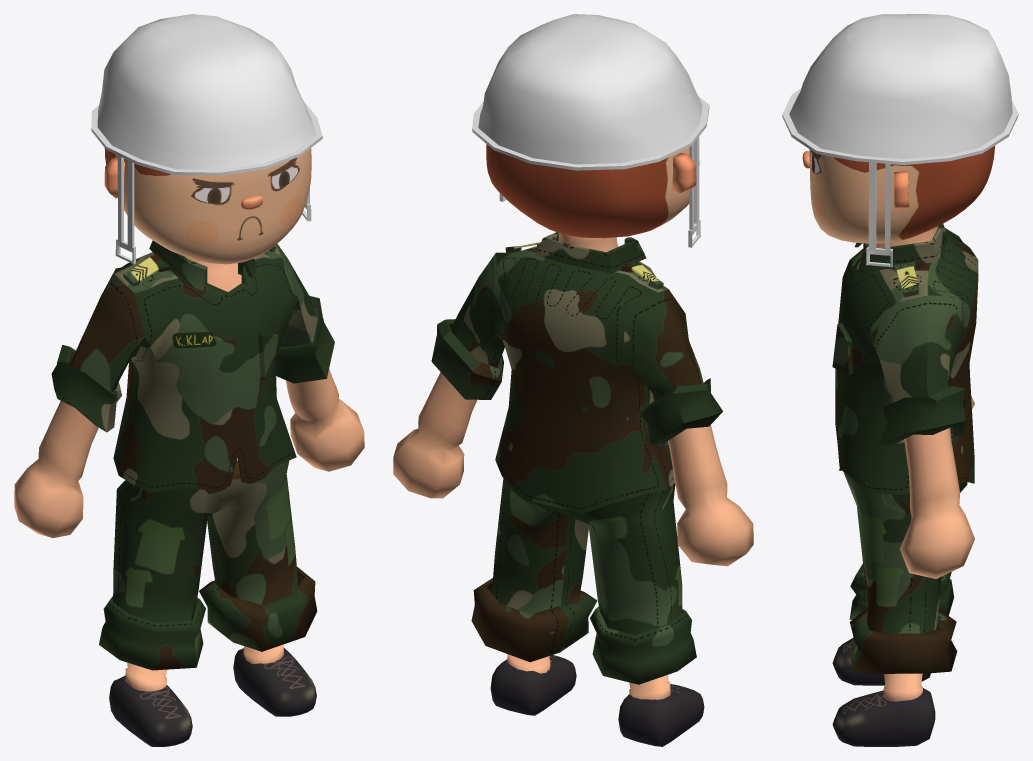
Rendered from Steel_plague_man.fbx.
3 renders of one model, left to right at view 1: azimuth 30°, elevation 25°; view 2: azimuth 150°, elevation 25°; view 3: azimuth 270°, elevation 25°, orthographic. The views are drawn at different scales.
Parts seen in each view (by area): view 1: Cube.011, Cube.008, Cylinder.001, Cube.007, Cube.009, Cube.012, Cylinder.002; view 2: Cube.011, Cube.008, Cylinder.001, Cube.007, Cube.009, Cube.012, Cylinder.002, Cube.014; view 3: Cube.011, Cylinder.001, Cube.008, Cube.009, Cube.007, Cube.012, Cylinder.002, Cube.014.
Boxes of the visible parts, left/top/right/bottom form: Cube.011: left=51, top=240, right=334, bottom=494; Cube.008: left=99, top=460, right=317, bottom=670; Cylinder.001: left=91, top=14, right=322, bottom=175; Cube.007: left=14, top=256, right=364, bottom=691; Cube.009: left=104, top=148, right=311, bottom=264; Cube.012: left=109, top=648, right=316, bottom=746; Cylinder.002: left=115, top=155, right=311, bottom=264; Cube.011: left=431, top=232, right=722, bottom=513; Cube.008: left=471, top=478, right=696, bottom=684; Cylinder.001: left=472, top=14, right=709, bottom=170; Cube.007: left=393, top=233, right=753, bottom=699; Cube.009: left=486, top=144, right=699, bottom=238; Cube.012: left=490, top=655, right=704, bottom=746; Cylinder.002: left=499, top=136, right=700, bottom=247; Cube.014: left=672, top=153, right=696, bottom=192; Cube.011: left=832, top=224, right=978, bottom=494; Cylinder.001: left=782, top=14, right=1018, bottom=164; Cube.008: left=843, top=472, right=967, bottom=673; Cube.009: left=809, top=145, right=995, bottom=243; Cube.007: left=856, top=226, right=974, bottom=701; Cube.012: left=832, top=637, right=935, bottom=746; Cylinder.002: left=866, top=162, right=892, bottom=267; Cube.014: left=894, top=171, right=909, bottom=209.
Size of the model in its own units: 517 by 981 by 308.
